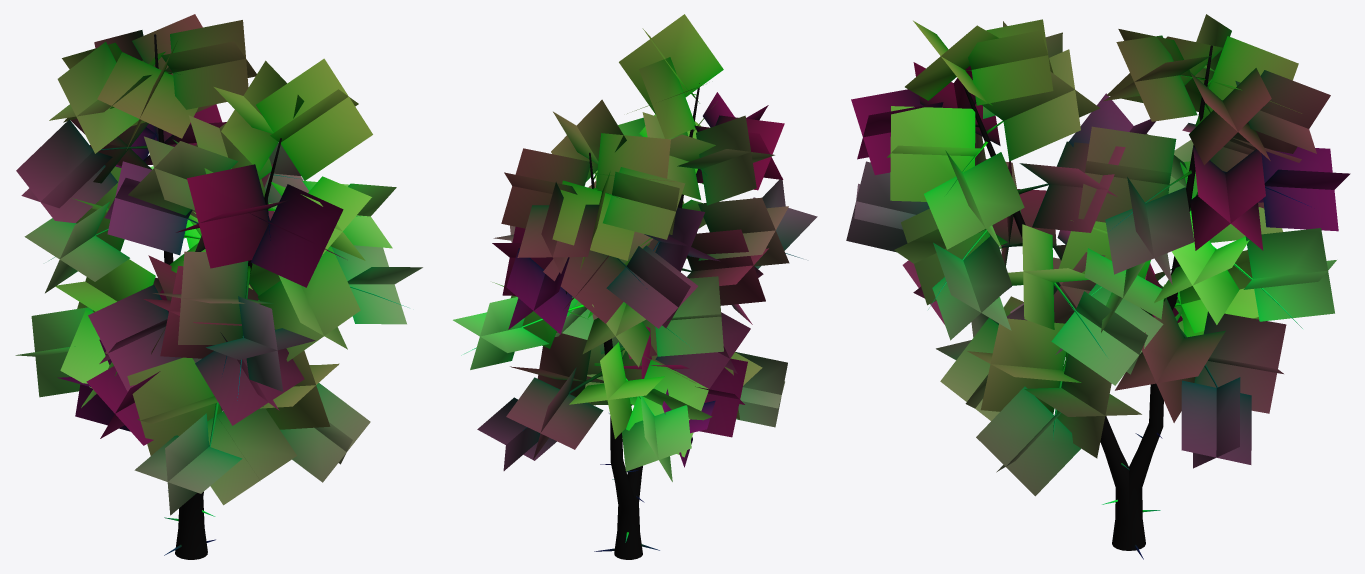
The model's file is M_P7_Tree_6.fbx.
3 renders of one model, left to right at view 1: azimuth 30°, elevation 25°; view 2: azimuth 150°, elevation 25°; view 3: azimuth 270°, elevation 25°, orthographic. The views are drawn at different scales.
Visible parts, largest first — view 1: Tree_6; view 2: Tree_6; view 3: Tree_6.
Boxes of the visible parts, x1,y1,x2,y2 form: Tree_6: [15, 14, 422, 559]; Tree_6: [453, 14, 817, 559]; Tree_6: [846, 14, 1350, 559].
Bounding box in the file's own units: 235 × 425 × 355.
